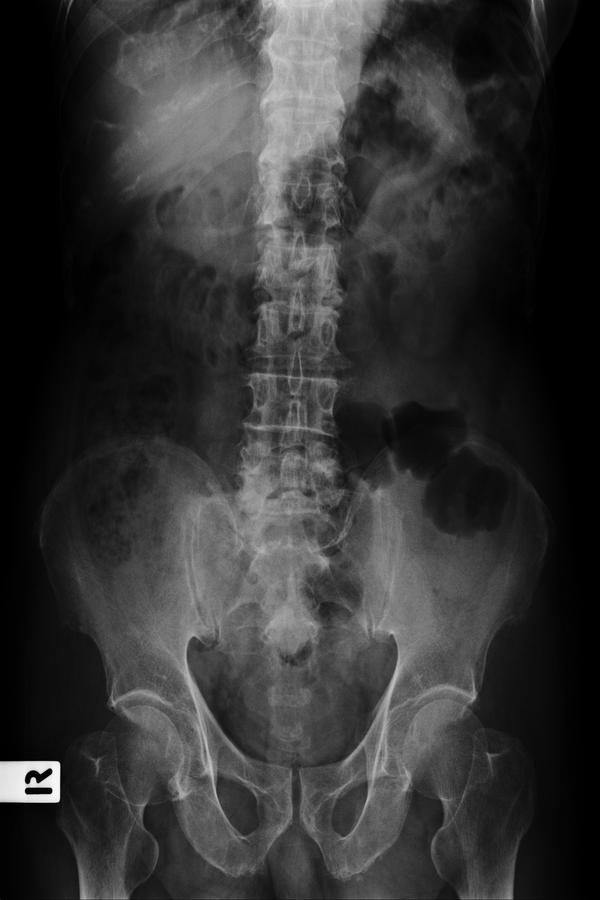lumbar scoliosis: (231, 12, 355, 547)
